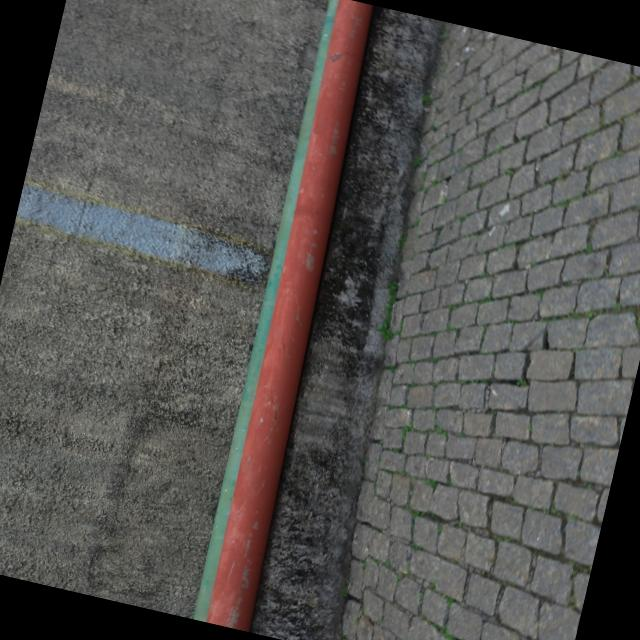gas: (191, 0, 389, 631)
